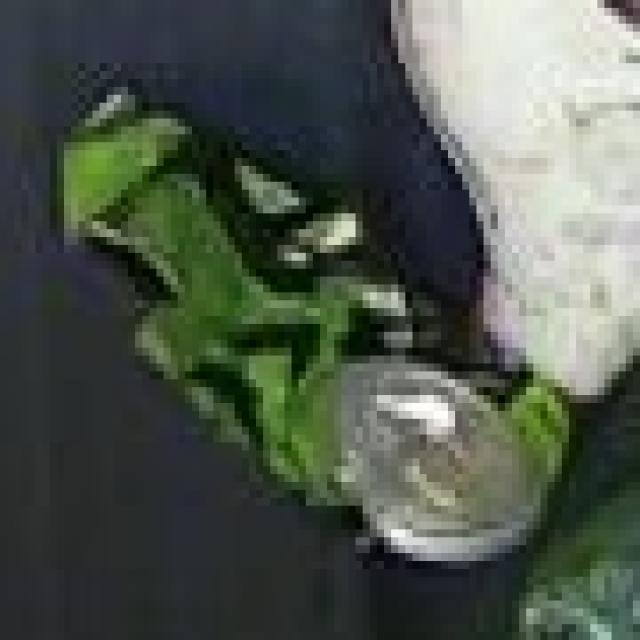litter: (48, 90, 574, 541)
